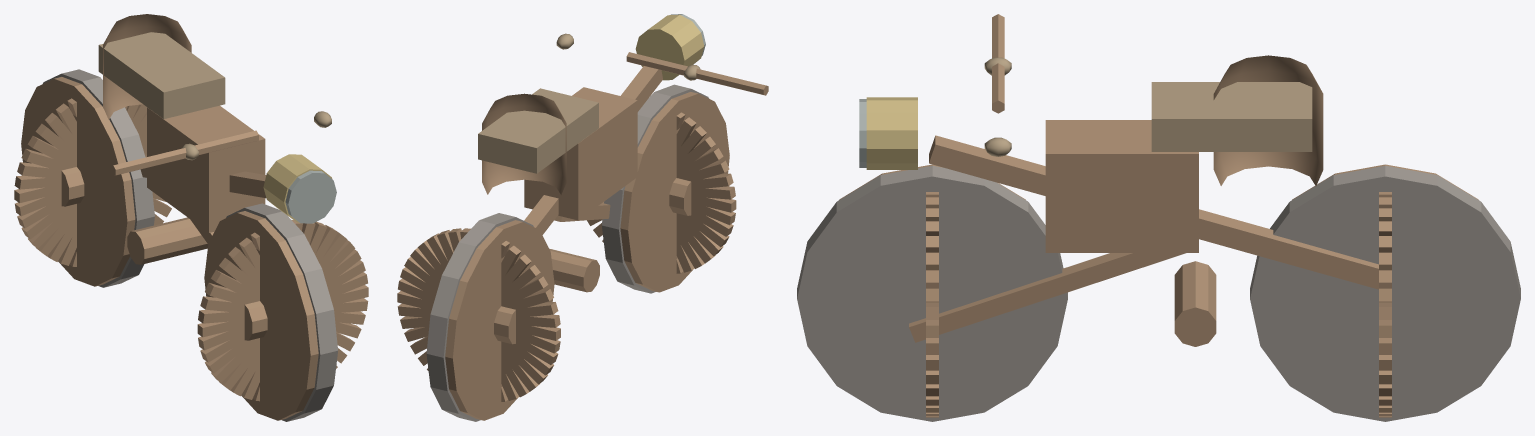
File: trench-line-1917-motorcycle-85cb3a4e__24126.glb
The picture shows the model from 3 angles, left to right: view 1: azimuth 30°, elevation 25°; view 2: azimuth 150°, elevation 25°; view 3: azimuth 270°, elevation 25°; orthographic projection. The views are drawn at different scales.
Parts seen in each view (by area): view 1: motorcycle; view 2: motorcycle; view 3: motorcycle.
Boxes of the visible parts, <box> form: motorcycle: <box>14,14,368,421</box>; motorcycle: <box>397,14,768,421</box>; motorcycle: <box>797,14,1520,421</box>.
Size of the model in its own units: 0.8839 by 1.05 by 1.98.
